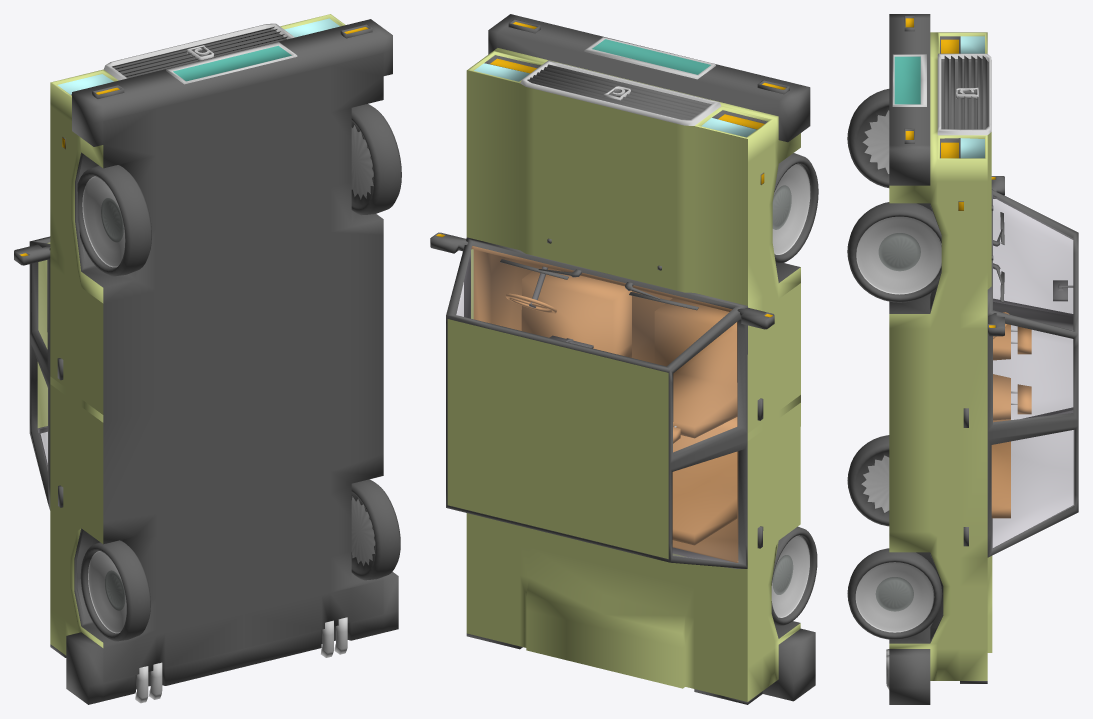
File: Macchina.fbx
3 views of the same model, side by side, from view 1: azimuth 30°, elevation 25°; view 2: azimuth 150°, elevation 25°; view 3: azimuth 270°, elevation 25° (orthographic). The views are drawn at different scales.
Visible parts, largest first — view 1: CarBody, CarBody.002, WheelFrontRight, CarBody.001, WheelBackRight, WheelFrontLeft, WheelBackLeft, Tetto; view 2: CarBody, Cofano, Tetto, Bagagliaio, CarBody.002, CarBody.001, WheelFrontRight, WheelBackRight; view 3: CarBody, WheelFrontLeft, WheelBackLeft, WheelFrontRight, WheelBackRight, Cofano, Bagagliaio.
Boxes of the visible parts, x1=… form: CarBody: x1=14, y1=14, x2=398, y2=704; CarBody.002: x1=50, y1=384, x2=103, y2=543; WheelFrontRight: x1=77, y1=165, x2=151, y2=276; CarBody.001: x1=50, y1=265, x2=103, y2=414; WheelBackRight: x1=80, y1=540, x2=150, y2=641; WheelFrontLeft: x1=351, y1=104, x2=401, y2=215; WheelBackLeft: x1=351, y1=479, x2=400, y2=580; Tetto: x1=37, y1=242, x2=50, y2=428; CarBody: x1=430, y1=14, x2=815, y2=704; Cofano: x1=466, y1=70, x2=747, y2=305; Tetto: x1=447, y1=319, x2=668, y2=558; Bagagliaio: x1=466, y1=513, x2=747, y2=701; CarBody.002: x1=747, y1=403, x2=800, y2=568; CarBody.001: x1=747, y1=283, x2=800, y2=433; WheelFrontRight: x1=772, y1=153, x2=818, y2=263; WheelBackRight: x1=771, y1=526, x2=817, y2=625; CarBody: x1=886, y1=14, x2=1078, y2=704; WheelFrontLeft: x1=847, y1=202, x2=941, y2=302; WheelBackLeft: x1=847, y1=548, x2=942, y2=639; WheelFrontRight: x1=847, y1=89, x2=889, y2=187; WheelBackRight: x1=847, y1=435, x2=889, y2=526; Cofano: x1=987, y1=132, x2=993, y2=289; Bagagliaio: x1=987, y1=556, x2=992, y2=652.
Size of the model in its own units: 3673 by 6377 by 2357.
